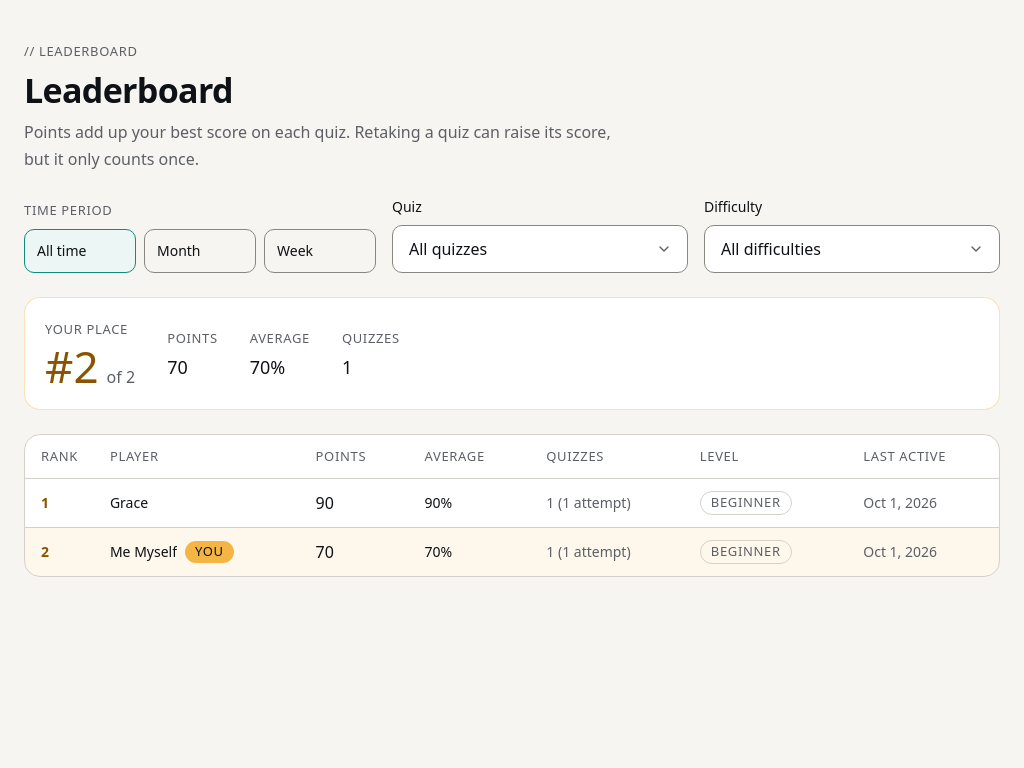
Leaderboard page › switches to a single quiz's ranking when a quiz is picked, and asks the server for it
Expected: the table is shown, left=25, top=435, right=999, bottom=576
Select "Networking" in the dropdown labelled "Quiz" at (540, 249), box left=392, top=225, right=688, bottom=273
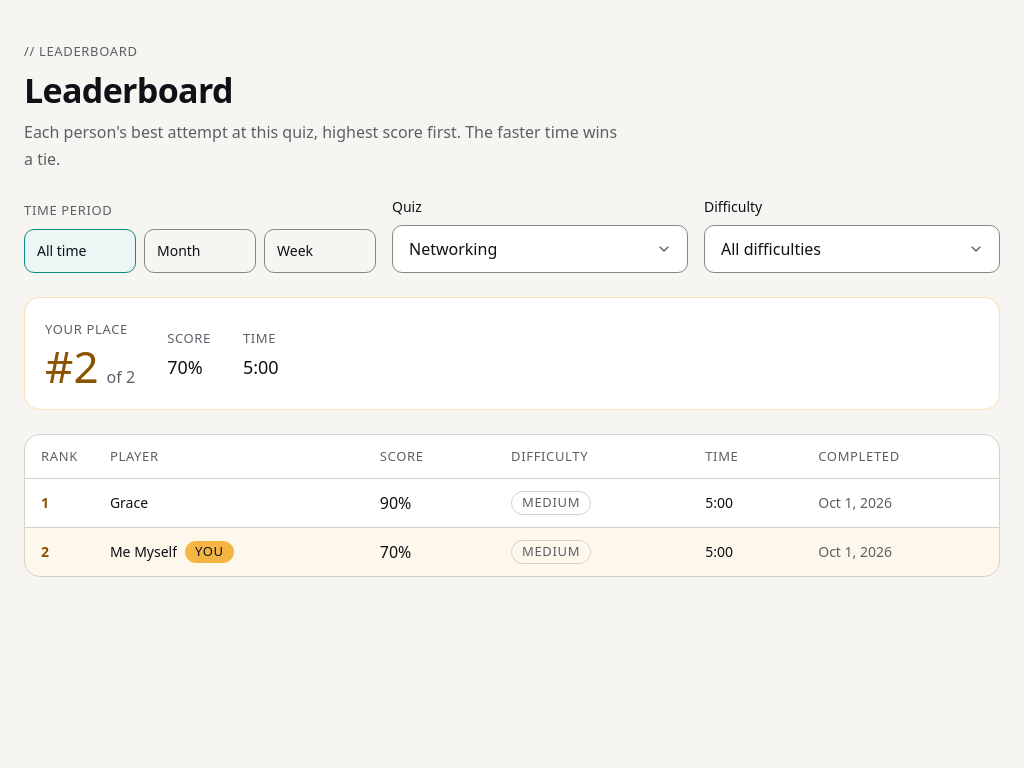
Expected: the column heading "Score" is shown, left=364, top=435, right=495, bottom=478
